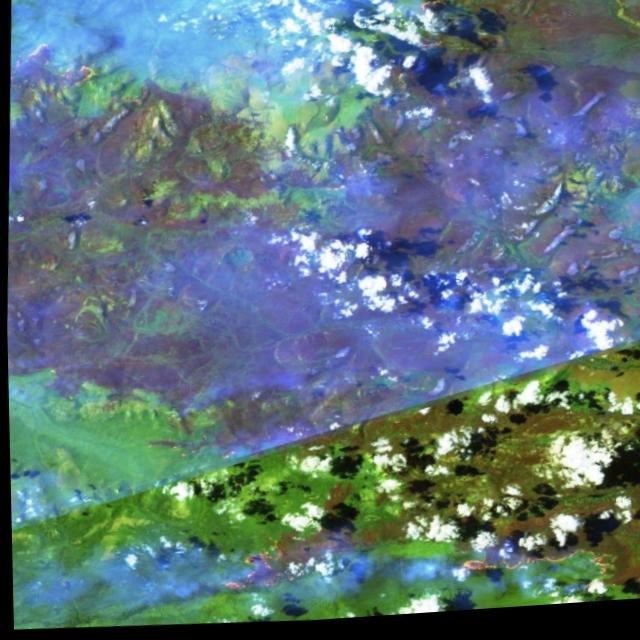fire: (444, 539, 623, 604), (9, 29, 105, 90), (214, 538, 305, 602), (410, 0, 460, 42)
